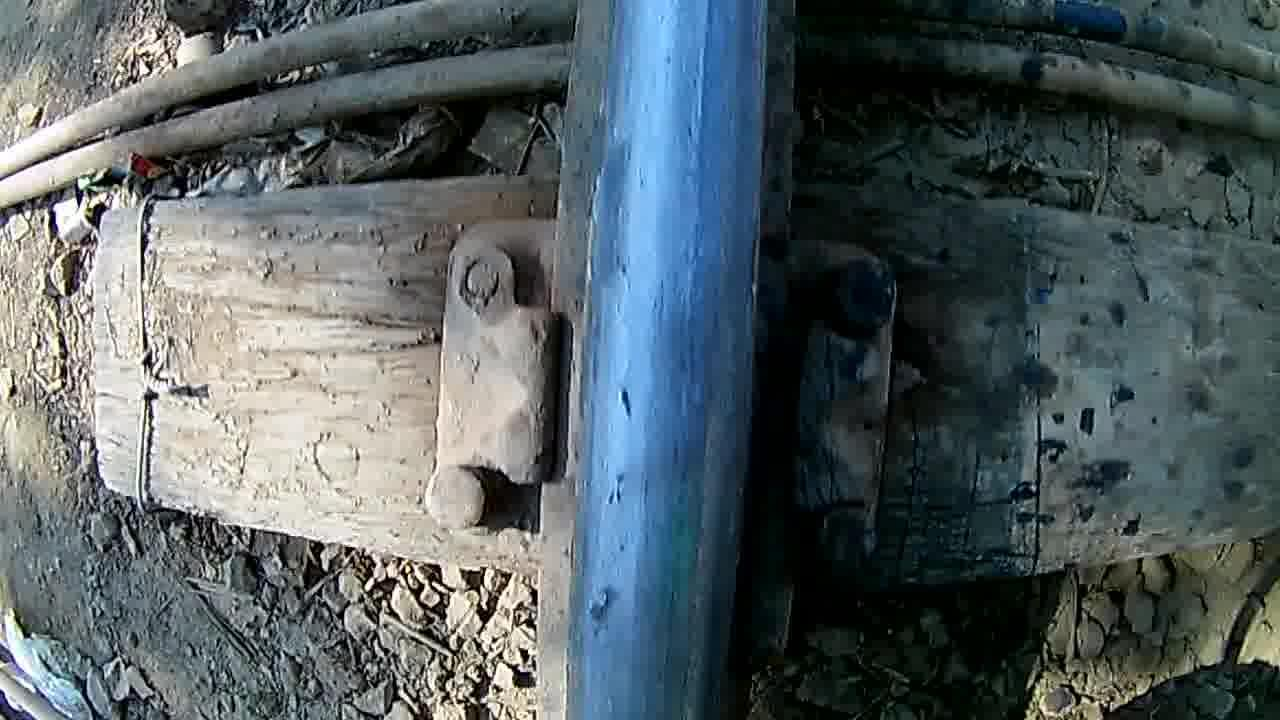crack: (588, 7, 742, 720)
